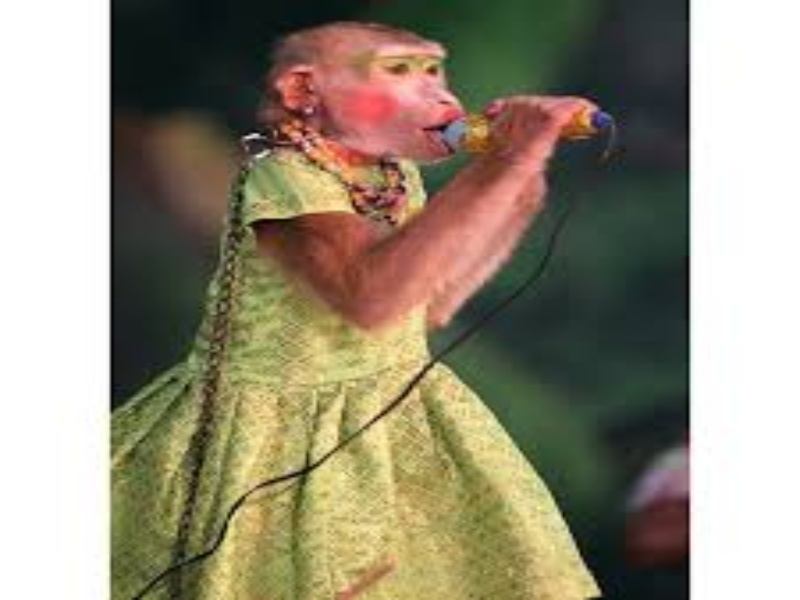monkey: (158, 18, 636, 592)
